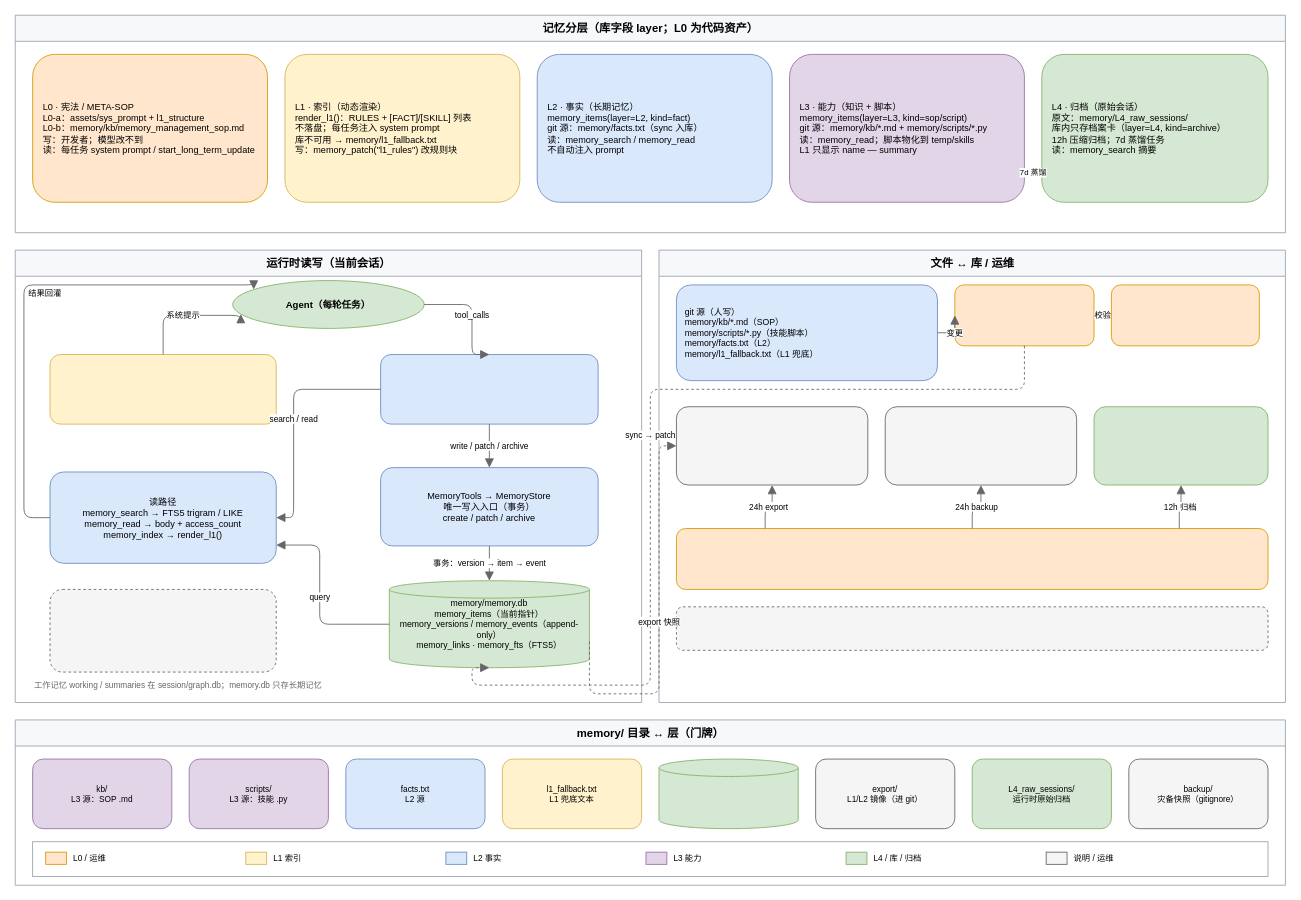
Image size: 1301x900. Some labels were removed from this diagram. Here are the shapes that lost their labels. From the top down, the centre of each, then its label:
At pixel 1024 315: "memstore.sync 差异 → patch manifest sha256".
At pixel 1185 315: "memstore.verify sha / 版本 / 触发器 漂移检查".
At pixel 162 389: "system prompt L0 宪法 + L1 动态索引 （任务开始时注入一次）".
At pixel 489 389: "7 个 memory_* 工具 search / read / write / patch / archive / link / index".
At pixel 772 445: "memstore.export 库 → 确定性 md 快照 memory/export/L1,L2（进 git）".
At pixel 980 445: "memstore.backup VACUUM INTO 快照 memory/backup/snapshots 7 日 + 4 周轮转".
At pixel 1180 445: "L4 归档 12h 压缩 temp/model_responses → memory/L4_raw_sessions/ 7d 蒸馏任务".
At pixel 972 558: "reflect/scheduler.py 12h L4 归档 · 24h backup + export · 7d 蒸馏任务派发".
At pixel 162 630: "写保护 file_write / file_patch 不能写 memory/ code_run 旁路 = 已知限制".
At pixel 972 628: "同一内容只有一个 git 源；export/ 是机器镜像，勿手改；改完源文件必须 sync，定期 verify".
At pixel 728 793: "memory.db 唯一生效源".
